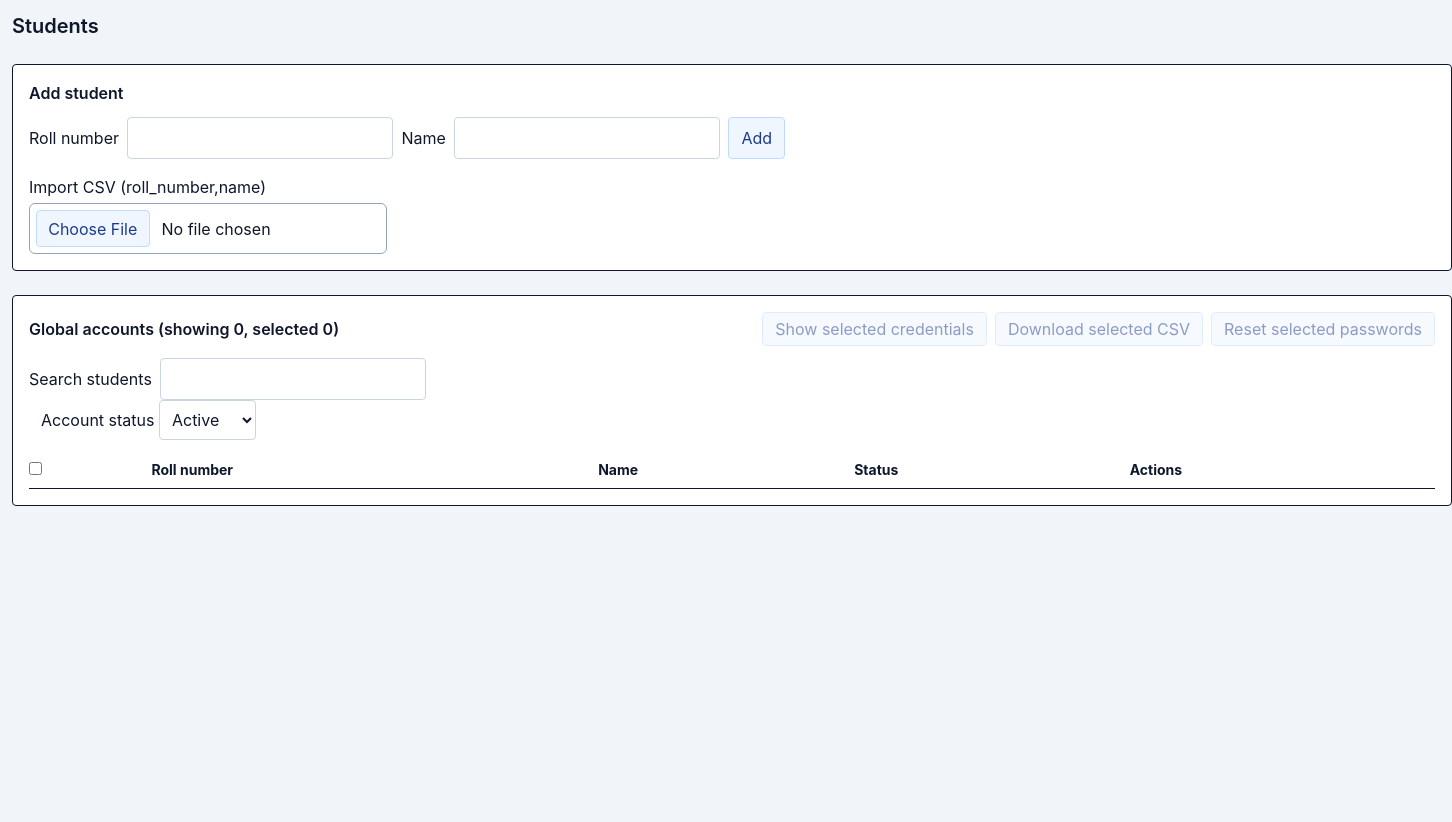
Test: inactive roster can reactivate and show the new password
This screenshot has width=1452, height=822.
Select "Inactive" in the dropdown labelled "Account status" at (208, 420), box [159, 400, 256, 440]
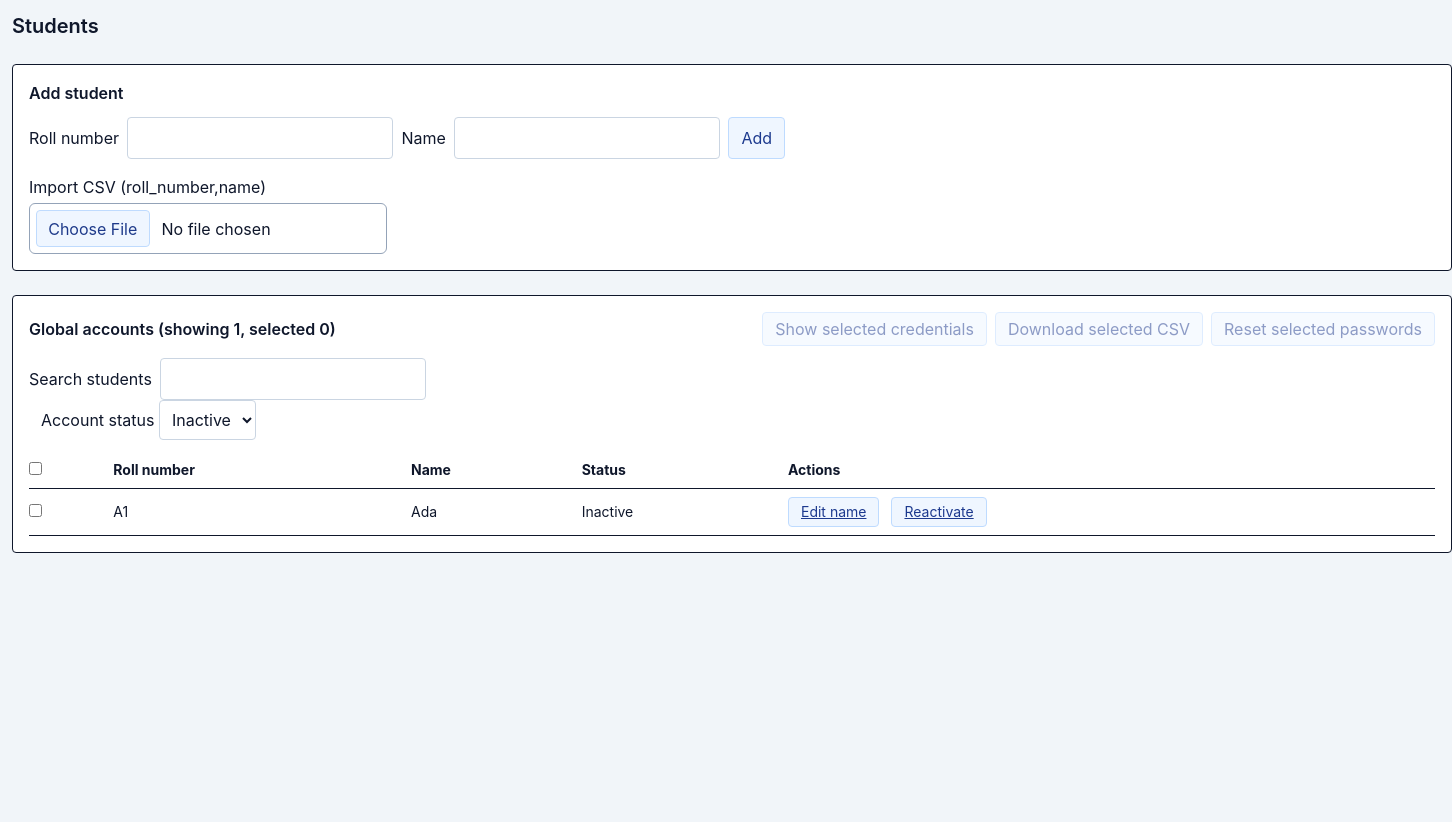
Result: the text "A1" is shown at [105, 489, 403, 536]
Click the button "Reactivate" at (939, 512), box [892, 497, 987, 527]
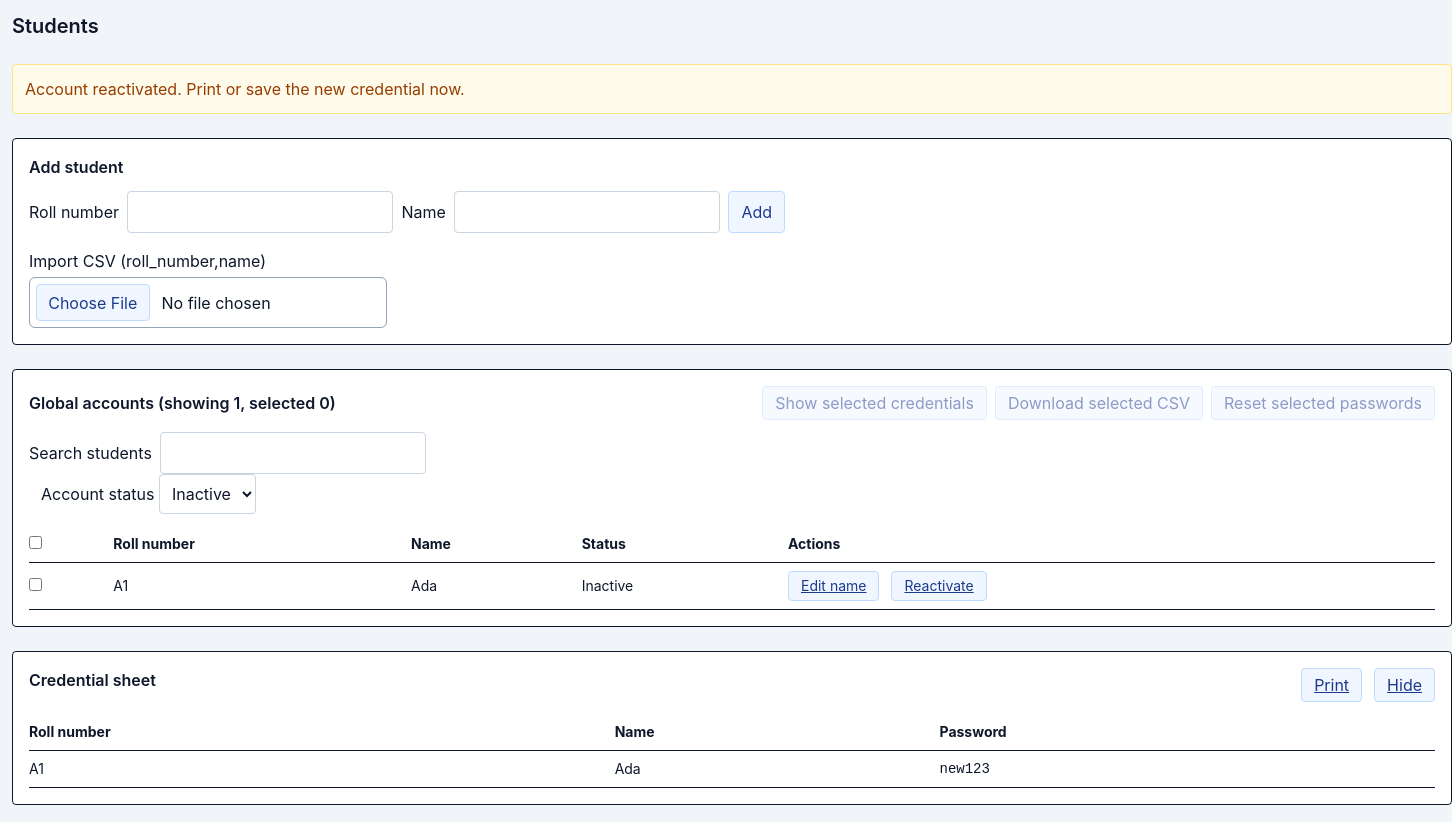
Result: the text "new123" is shown at [940, 751, 1435, 788]
